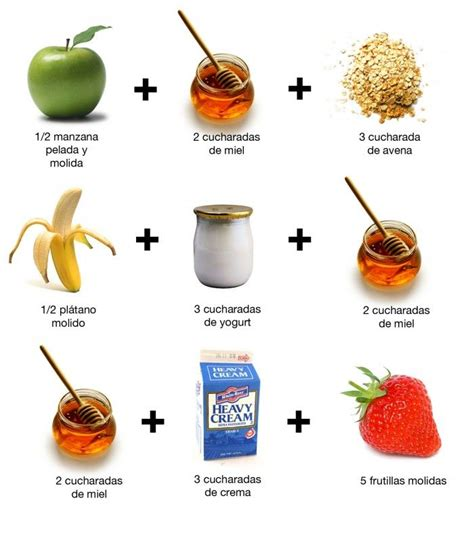apple: (26, 42, 109, 131)
